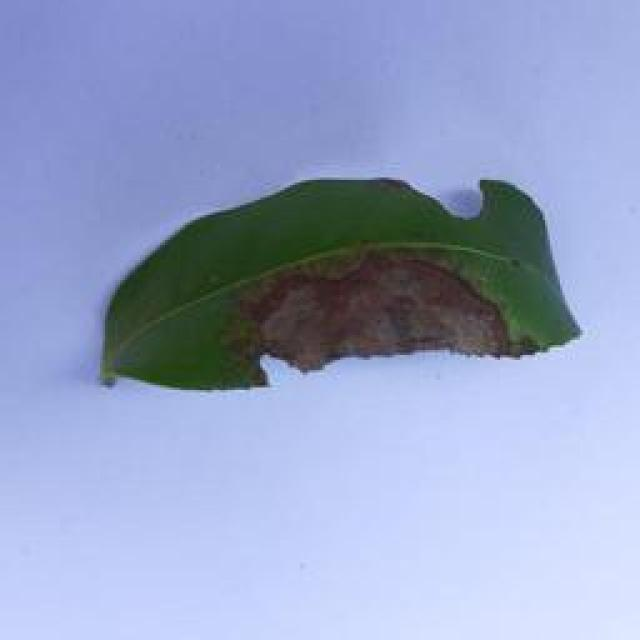Gray Blight: (94, 172, 590, 392)
